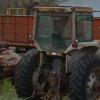Tractor: (20, 2, 98, 98)
